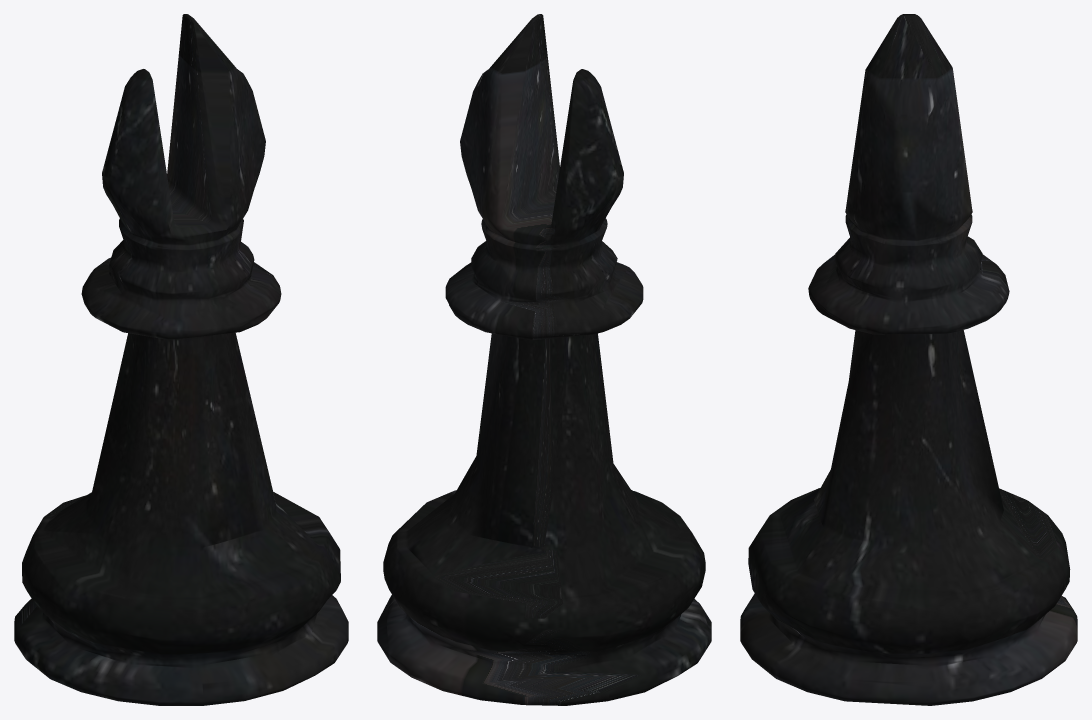
The model's file is Bishop.obj.
3 renders of one model, left to right at view 1: azimuth 30°, elevation 25°; view 2: azimuth 150°, elevation 25°; view 3: azimuth 270°, elevation 25°, orthographic.
Visible parts, largest first — view 1: mesh01.001; view 2: mesh01.001; view 3: mesh01.001.
Boxes of the visible parts, x1,y1,x2,y2 form: mesh01.001: (14, 14, 348, 705); mesh01.001: (377, 14, 711, 705); mesh01.001: (740, 14, 1077, 705).
Size of the model in its own units: 13.05 by 26.67 by 13.05.
1 material, 1 textured.
